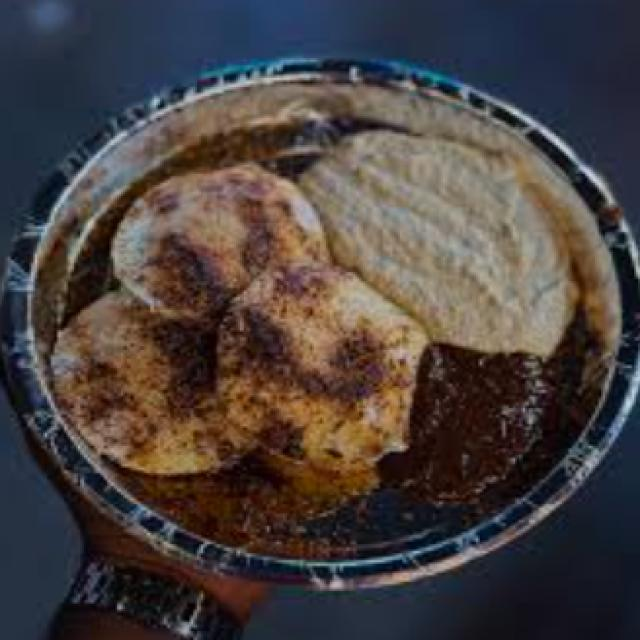peanut chutney: (351, 122, 626, 320)
